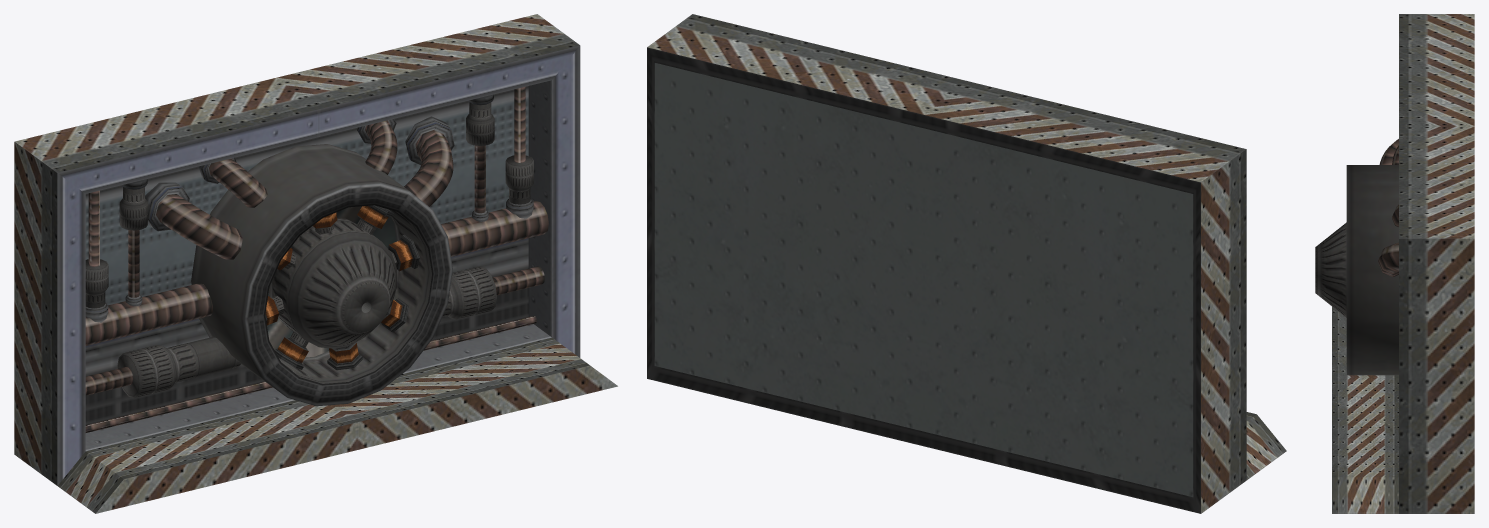
File: geradorgigante.fbx
3 views of the same model, side by side, from view 1: azimuth 30°, elevation 25°; view 2: azimuth 150°, elevation 25°; view 3: azimuth 270°, elevation 25° (orthographic). The views are drawn at different scales.
Parts seen in each view (by area): view 1: Cube, Cylinder, Cylinder.002; view 2: Cube; view 3: Cube, Cylinder, Cylinder.002.
Boxes of the visible parts, left/top/right/bottom form: Cube: left=14, top=14, right=617, bottom=513; Cylinder: left=191, top=144, right=452, bottom=406; Cylinder.002: left=265, top=205, right=419, bottom=370; Cube: left=647, top=14, right=1286, bottom=513; Cube: left=1332, top=14, right=1474, bottom=513; Cylinder: left=1346, top=165, right=1398, bottom=375; Cylinder.002: left=1315, top=222, right=1346, bottom=317.
Bounding box in the file's own units: 7.02 × 4.02 × 2.11.
